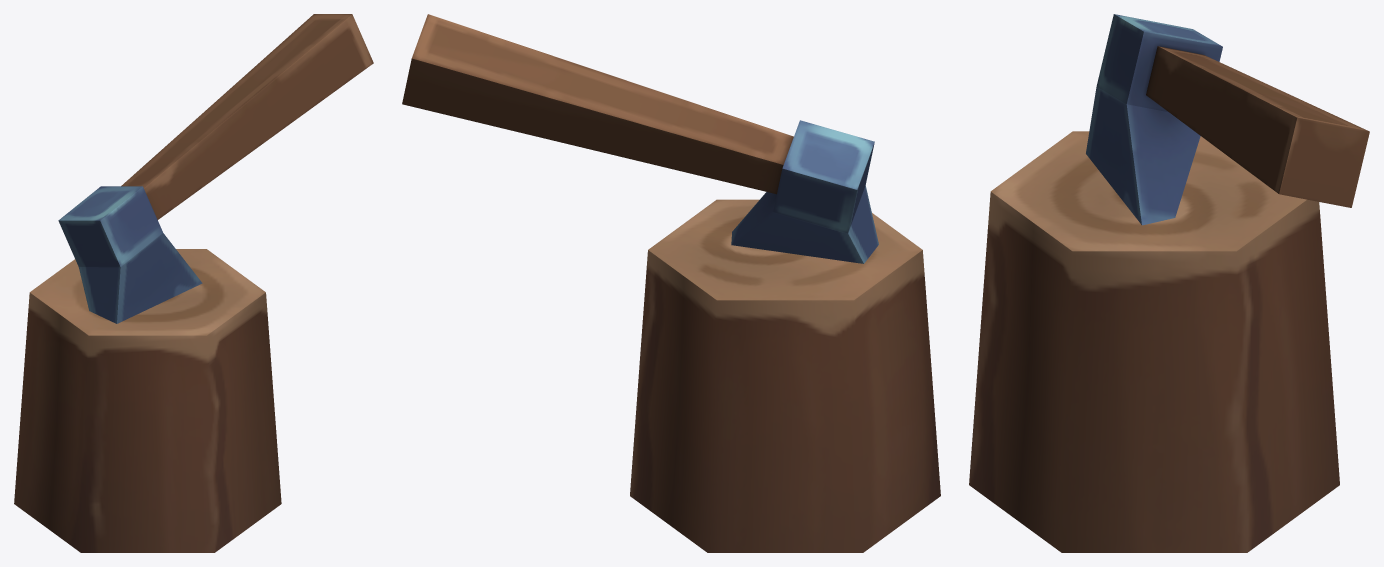
Rendered from forest_strump_02.fbx.
3 views of the same model, side by side, from view 1: azimuth 30°, elevation 25°; view 2: azimuth 150°, elevation 25°; view 3: azimuth 270°, elevation 25° (orthographic). The views are drawn at different scales.
Visible parts, largest first — view 1: forest_strump_02; view 2: forest_strump_02; view 3: forest_strump_02.
Boxes of the visible parts, <box> form: forest_strump_02: <box>14,14,373,552</box>; forest_strump_02: <box>402,14,940,552</box>; forest_strump_02: <box>969,14,1369,552</box>.
Size of the model in its own units: 1.28 by 1.29 by 0.8648.
